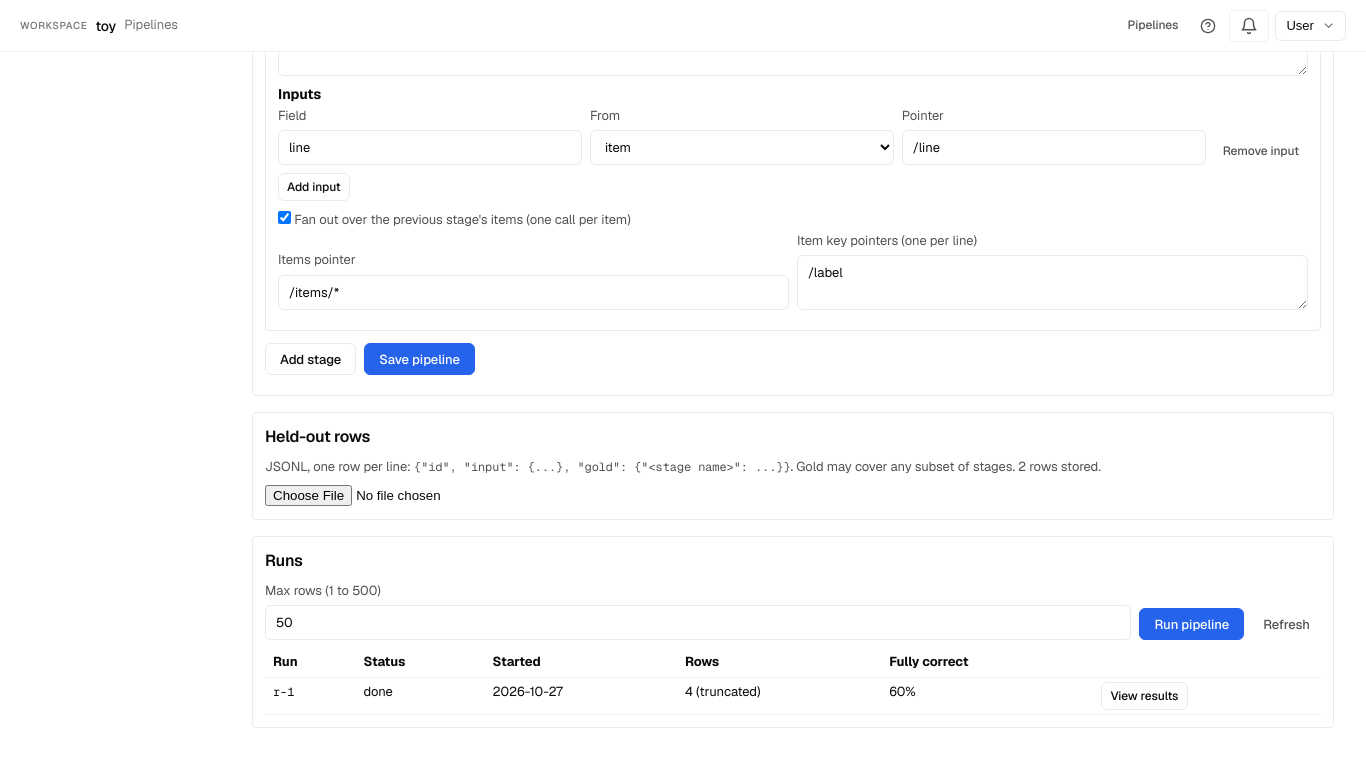
Test: Held-out upload, runs and results › refreshes the runs list after starting a run
(page scrolled)
Click the button with test id "run-start": (1192, 624) [1140,608,1244,640]
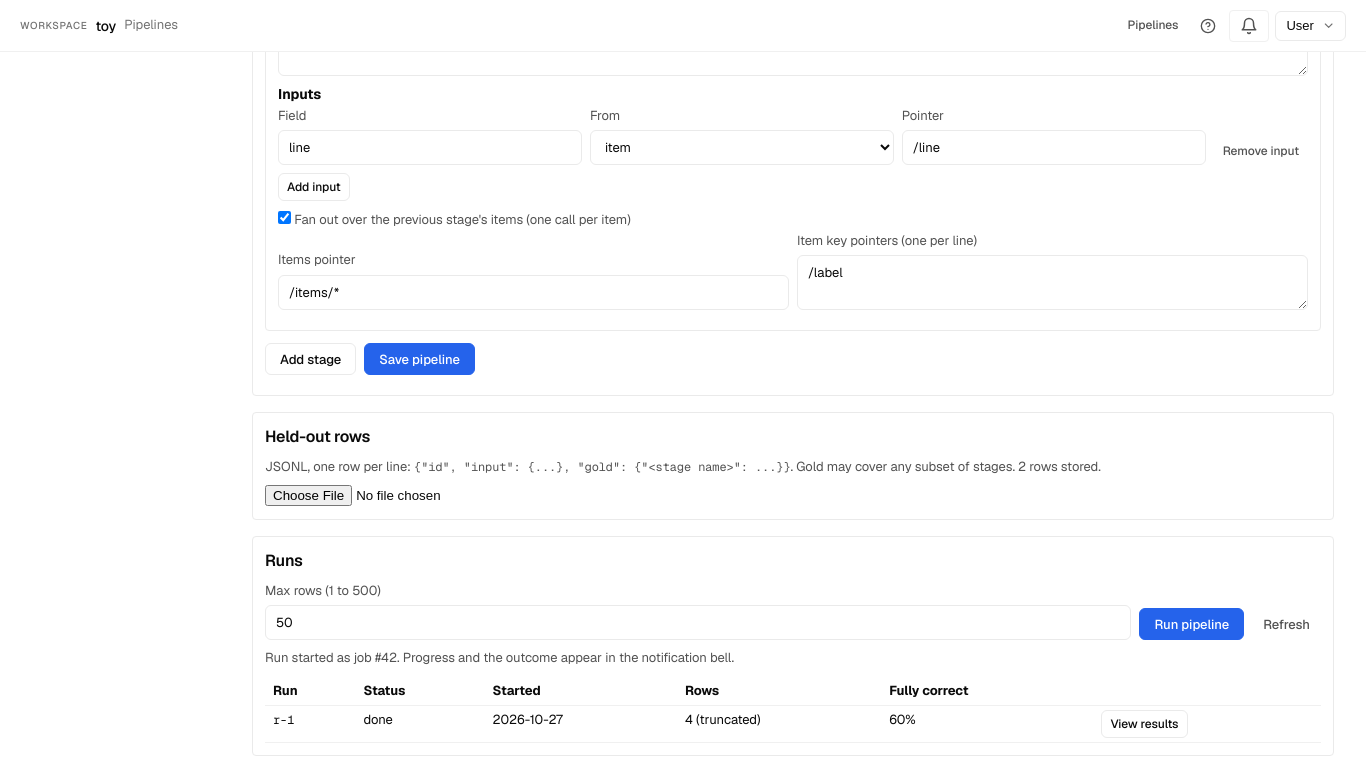
Expected: the text with test id "run-started" is shown, [265,650,734,666]
